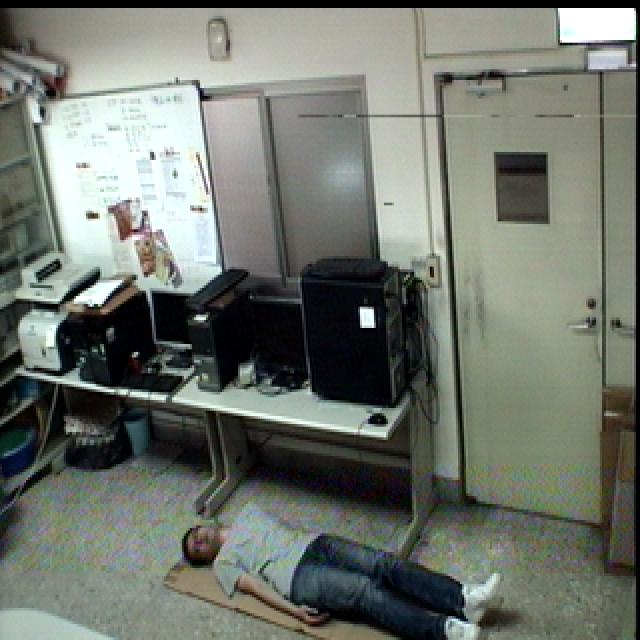lie: (178, 491, 509, 640)
